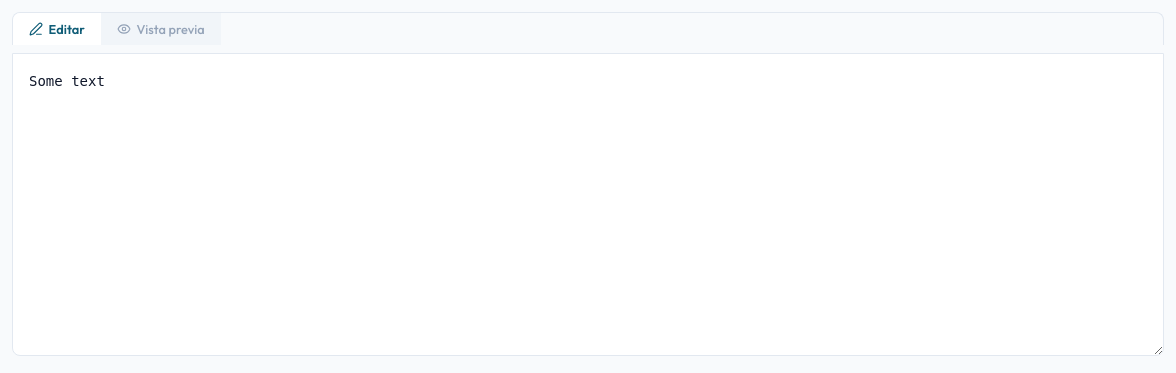
Test case: MarkdownEditor › switches back to edit mode
Click the button "Vista previa": (161, 29) [101,13,221,45]
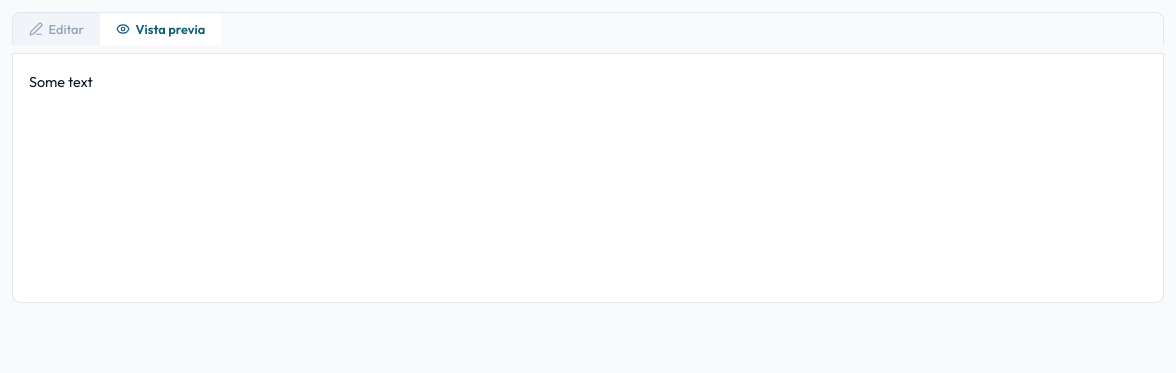
Click the button "Editar": (56, 29) [13,13,100,45]
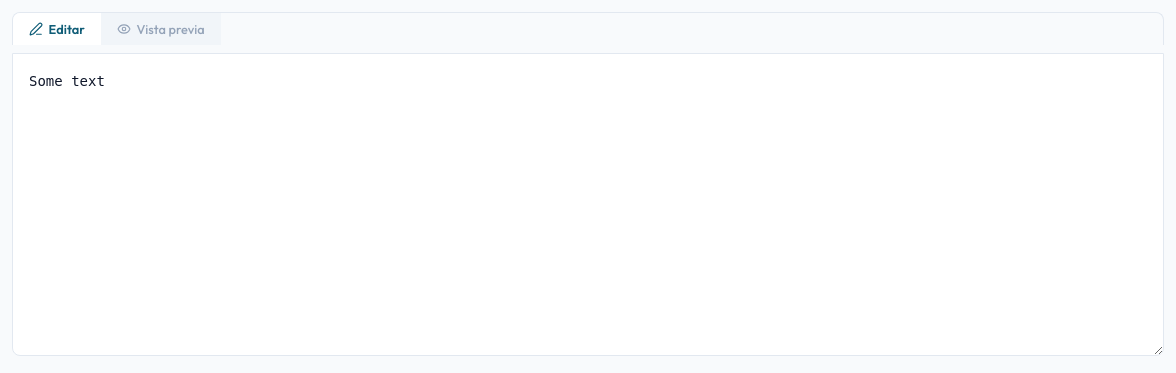
Check: the text box with placeholder "Escribe en markdown..." is shown
